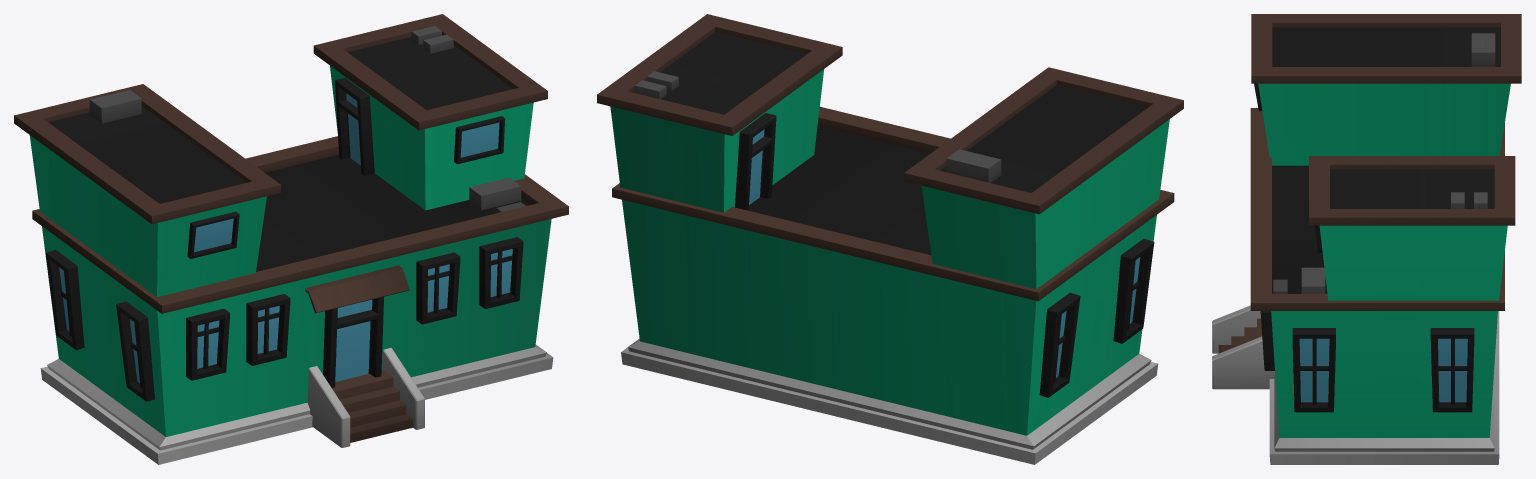
Rendered from building_03.fbx.
3 renders of one model, left to right at view 1: azimuth 30°, elevation 25°; view 2: azimuth 150°, elevation 25°; view 3: azimuth 270°, elevation 25°, orthographic. The views are drawn at different scales.
Parts seen in each view (by area): view 1: Building_03; view 2: Building_03; view 3: Building_03.
Boxes of the visible parts, x1,y1,x2,y2 form: Building_03: (14,14,568,464); Building_03: (597,14,1183,464); Building_03: (1212,14,1521,464).
Bounding box in the file's own units: 796 × 483 × 511.
